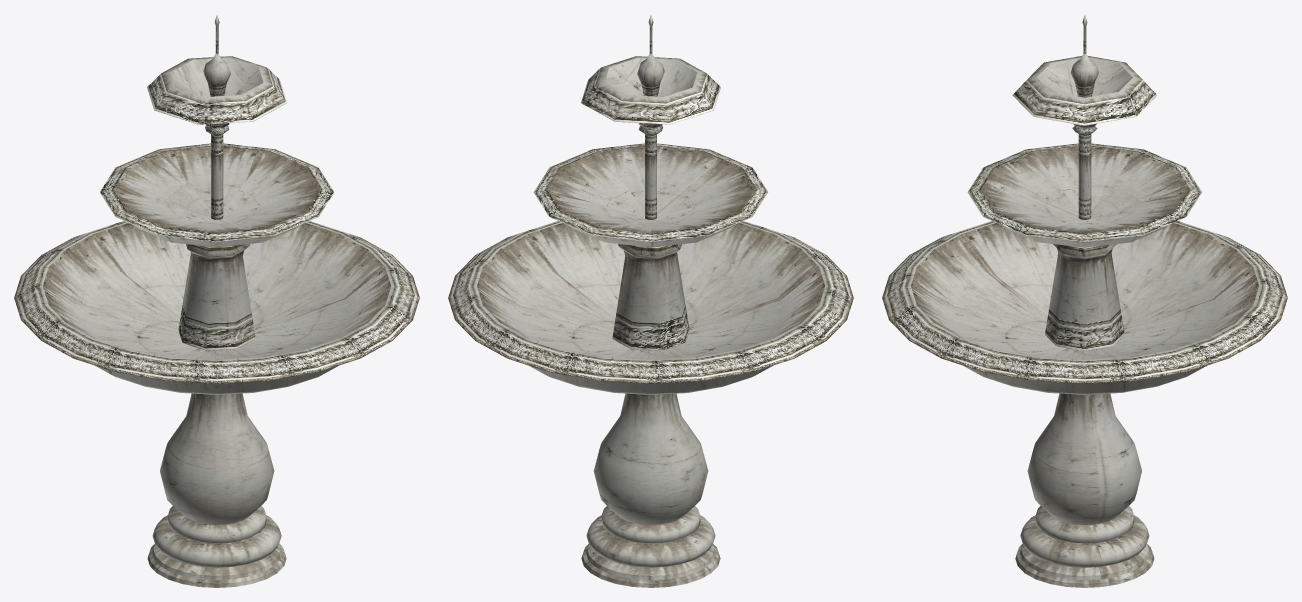
Rendered from fountain.dae.
3 views of the same model, side by side, from view 1: azimuth 30°, elevation 25°; view 2: azimuth 150°, elevation 25°; view 3: azimuth 270°, elevation 25° (orthographic).
Visible parts, largest first — view 1: Fountain; view 2: Fountain; view 3: Fountain.
Boxes of the visible parts, box(x1,y1,x2,y2) form: Fountain: box(14, 14, 419, 587); Fountain: box(448, 15, 853, 587); Fountain: box(882, 14, 1287, 587).
Size of the model in its own units: 70.5 by 70.5 by 104.
